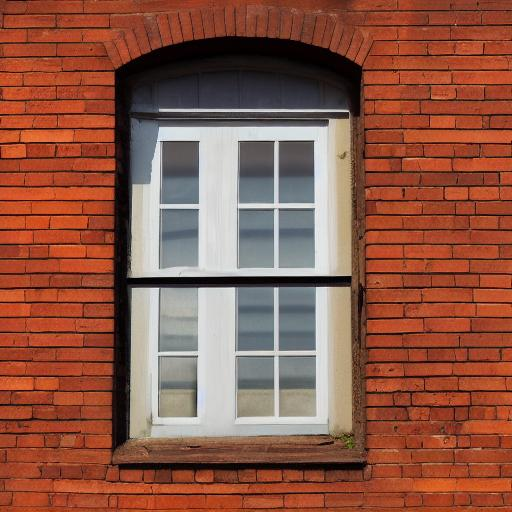Window: (103, 6, 378, 471)
